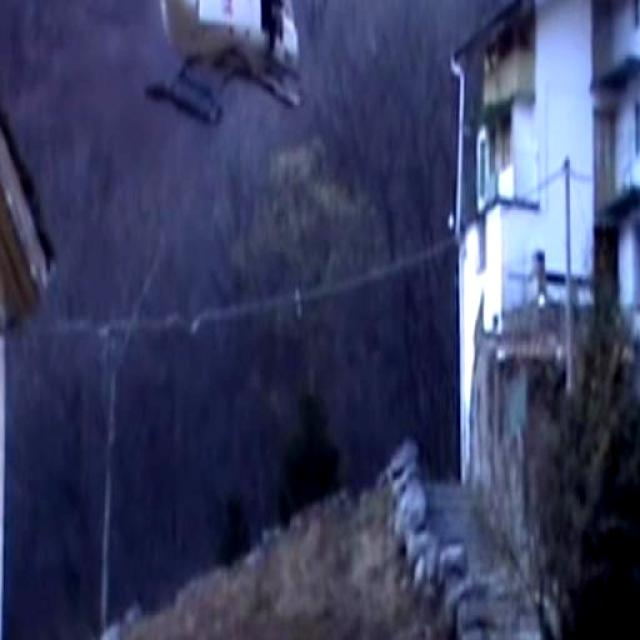drone: (41, 0, 316, 142)
